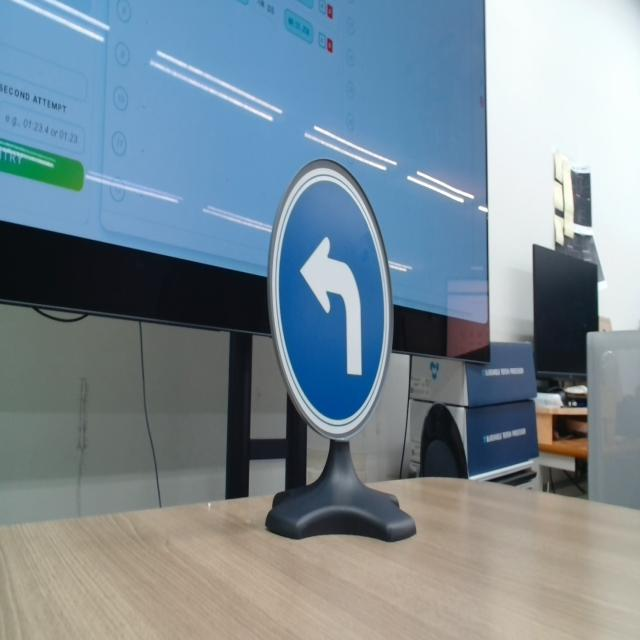left_direction: (254, 141, 404, 441)
